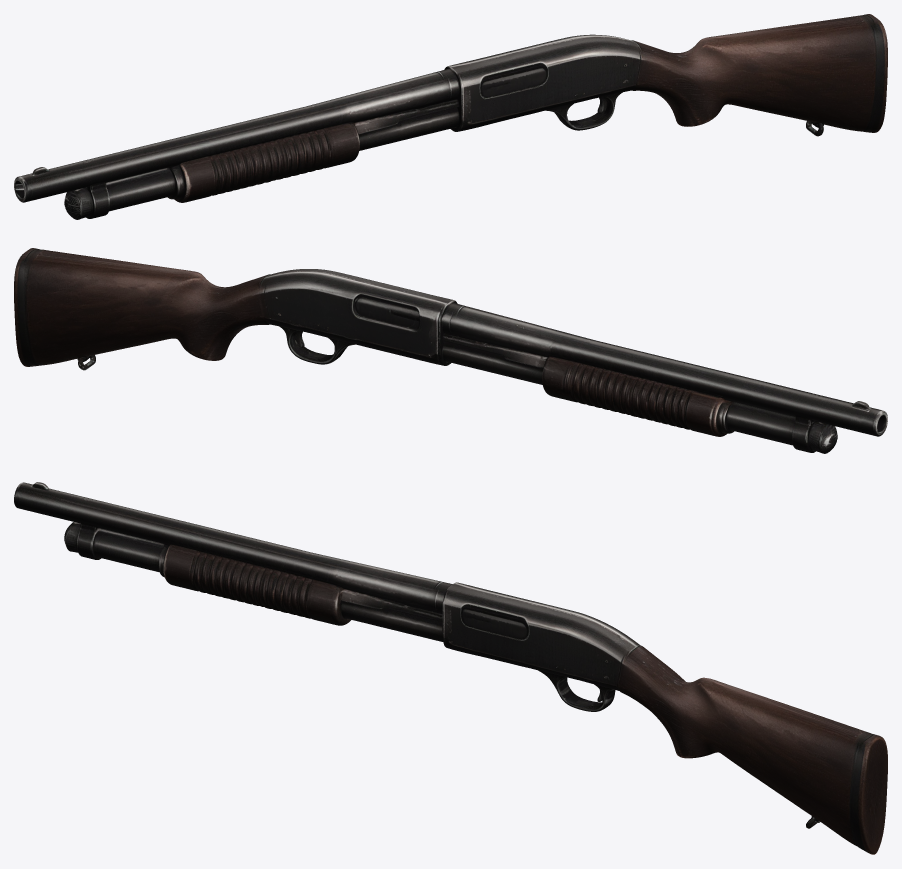
The model's file is shotgun.glb.
The picture shows the model from 3 angles, top to bottom: view 1: azimuth 30°, elevation 25°; view 2: azimuth 150°, elevation 25°; view 3: azimuth 330°, elevation 25°; orthographic projection.
Parts seen in each view (by area): view 1: mesh_node; view 2: mesh_node; view 3: mesh_node.
Boxes of the visible parts, left/top/right/bottom form: mesh_node: left=14, top=14, right=887, bottom=219; mesh_node: left=14, top=248, right=887, bottom=453; mesh_node: left=14, top=482, right=887, bottom=854.
Size of the model in its own units: 1.9 by 0.3556 by 0.0993.
1 material, 1 textured.
